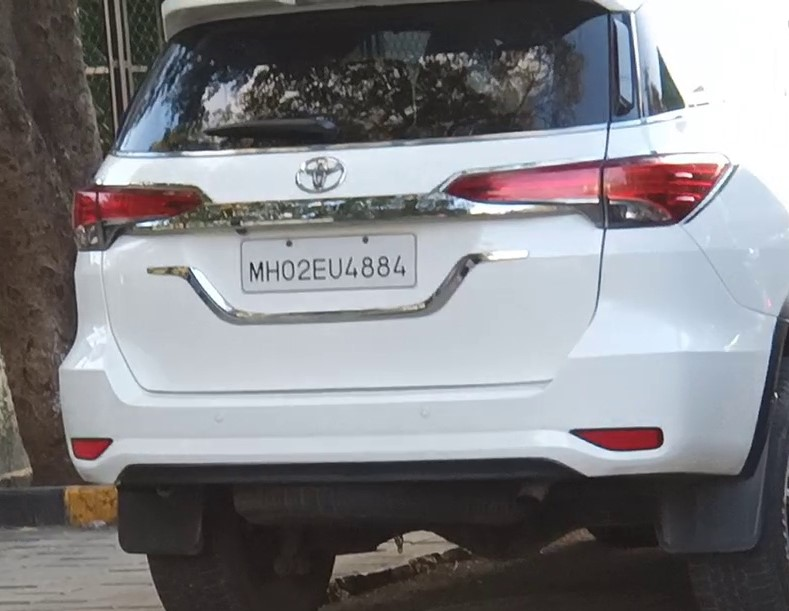MH02EU4884: (239, 231, 417, 293)
